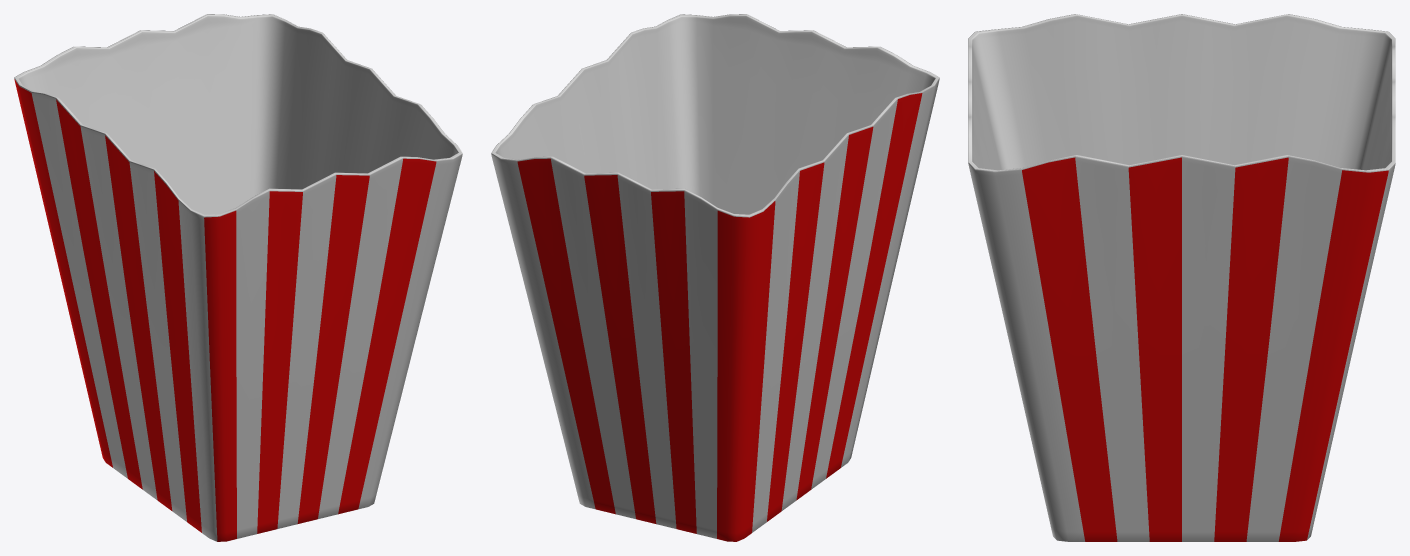
File: PopCorn_Continer_Large.fbx
3 renders of one model, left to right at view 1: azimuth 30°, elevation 25°; view 2: azimuth 150°, elevation 25°; view 3: azimuth 270°, elevation 25°, orthographic. The views are drawn at different scales.
Parts seen in each view (by area): view 1: Pop_Corn_Contanier_1; view 2: Pop_Corn_Contanier_1; view 3: Pop_Corn_Contanier_1.
Part boxes in pixels (left/top/right/bottom): Pop_Corn_Contanier_1: left=14, top=14, right=462, bottom=541; Pop_Corn_Contanier_1: left=491, top=14, right=939, bottom=541; Pop_Corn_Contanier_1: left=968, top=14, right=1395, bottom=541.
Bounding box in the file's own units: 24.16 × 32.96 × 30.72.
